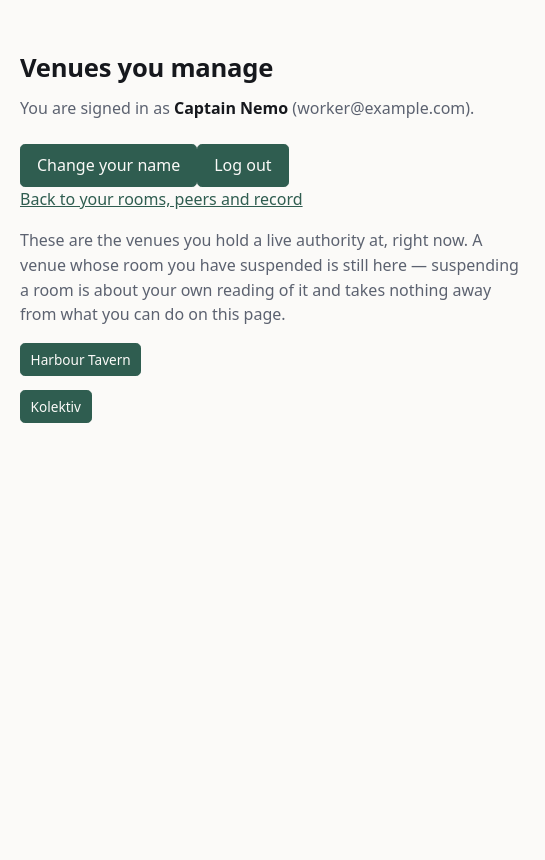
issuing an offer › sends the role label and nothing else, and shows the code with its warning
Click the button "Harbour Tavern" at point(81, 360), box x1=20 y1=343 x2=141 y2=376
(page scrolled)
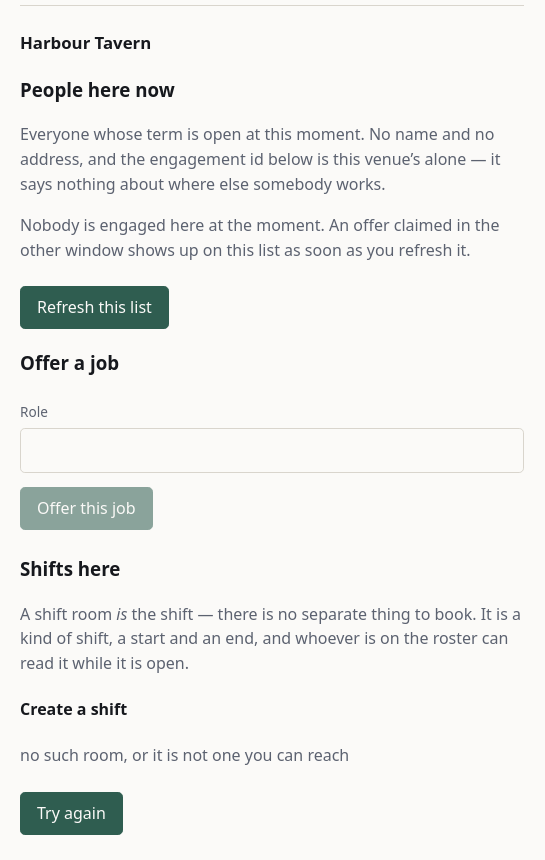
Type "Runner" into the field labelled "Role" at point(272, 451), box x1=20 y1=428 x2=524 y2=473
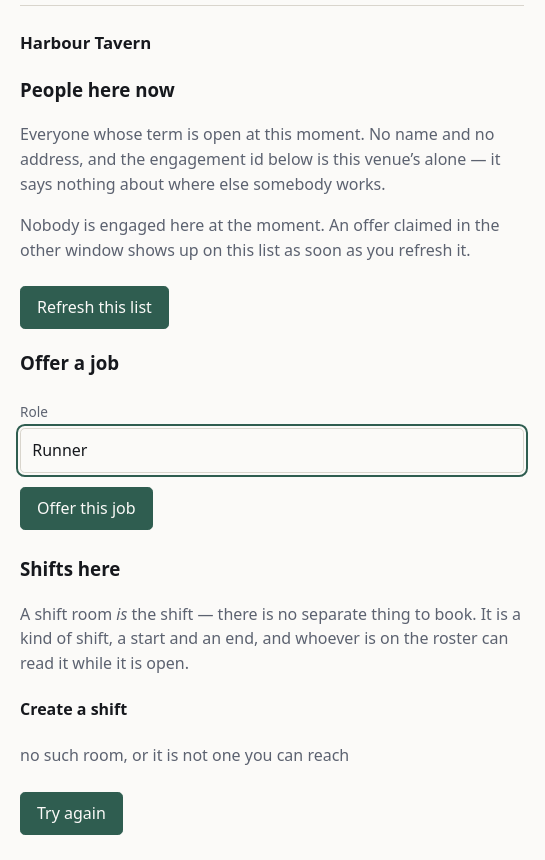
Click the button "Offer this job" at point(86, 508), box x1=20 y1=487 x2=153 y2=530
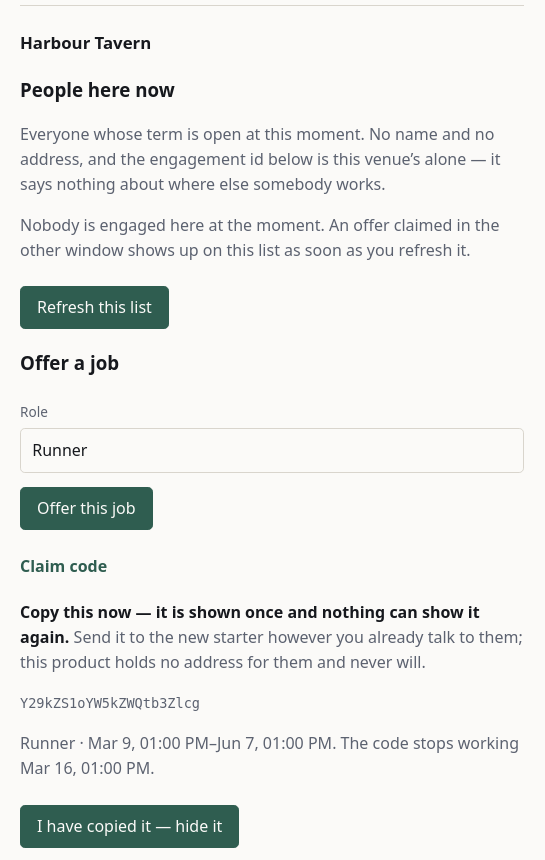
expect the message shows "Y29kZS1oYW5kZWQtb3Zlcg": met, box x1=20 y1=695 x2=200 y2=711
expect the message shows "shown once and nothing can show it again": met, box x1=20 y1=601 x2=480 y2=648
